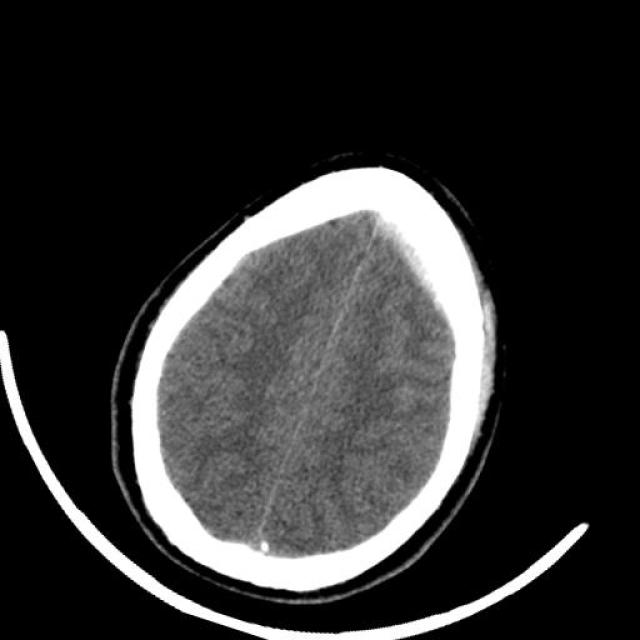Subdural: (335, 193, 510, 363)
